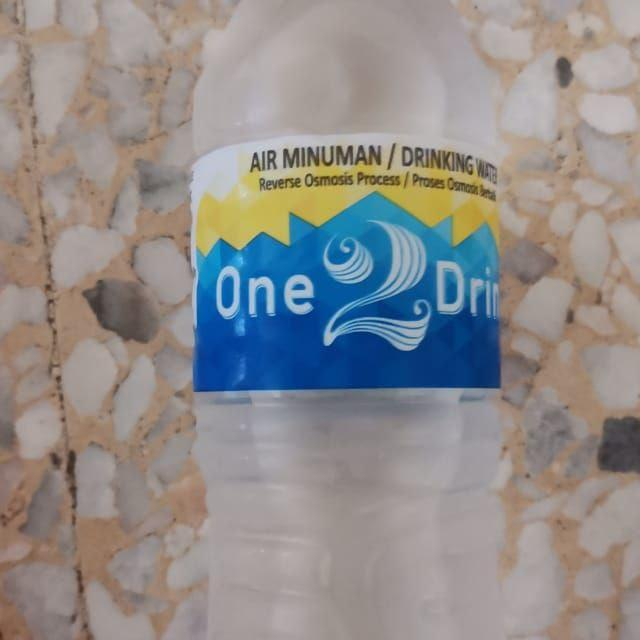plastic: (115, 0, 548, 640)
